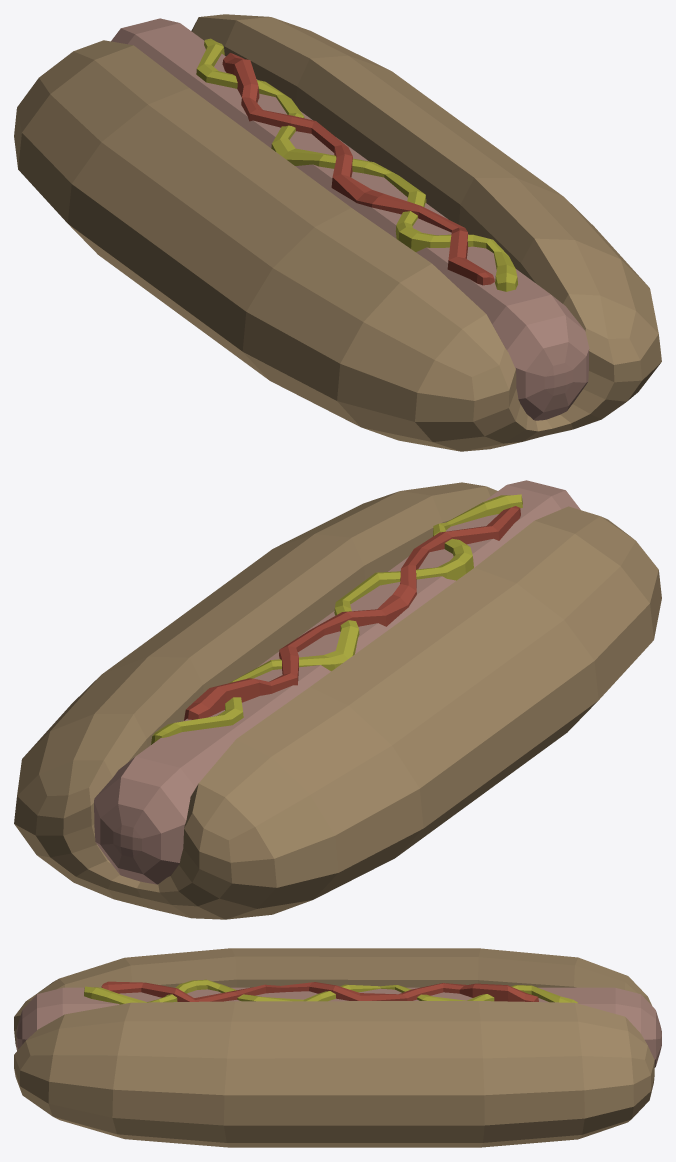
File: food-Hotdog.glb
3 views of the same model, one above another, from view 1: azimuth 30°, elevation 25°; view 2: azimuth 150°, elevation 25°; view 3: azimuth 270°, elevation 25° (orthographic). The views are drawn at different scales.
Parts seen in each view (by area): view 1: Hotdog; view 2: Hotdog; view 3: Hotdog.
Boxes of the visible parts, x1,y1,x2,y2 form: Hotdog: (14, 14, 661, 451); Hotdog: (14, 480, 661, 919); Hotdog: (14, 948, 661, 1147).
Bounding box in the file's own units: 0.7852 × 0.4094 × 1.66.
